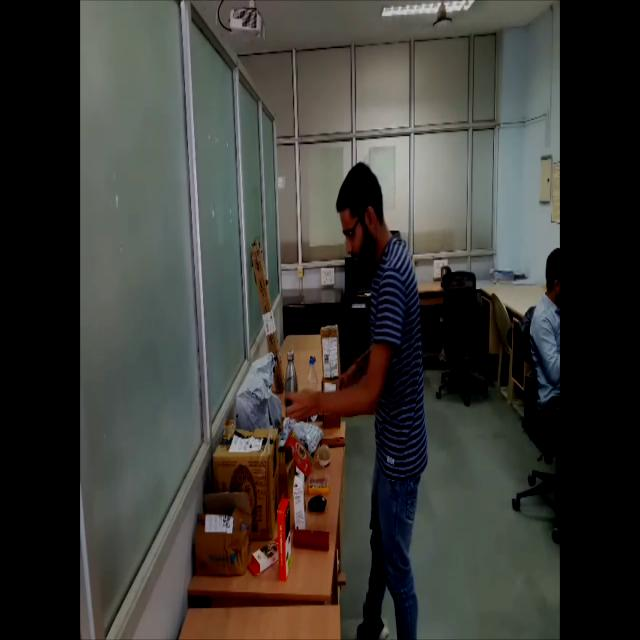normal: (285, 148, 432, 640)
